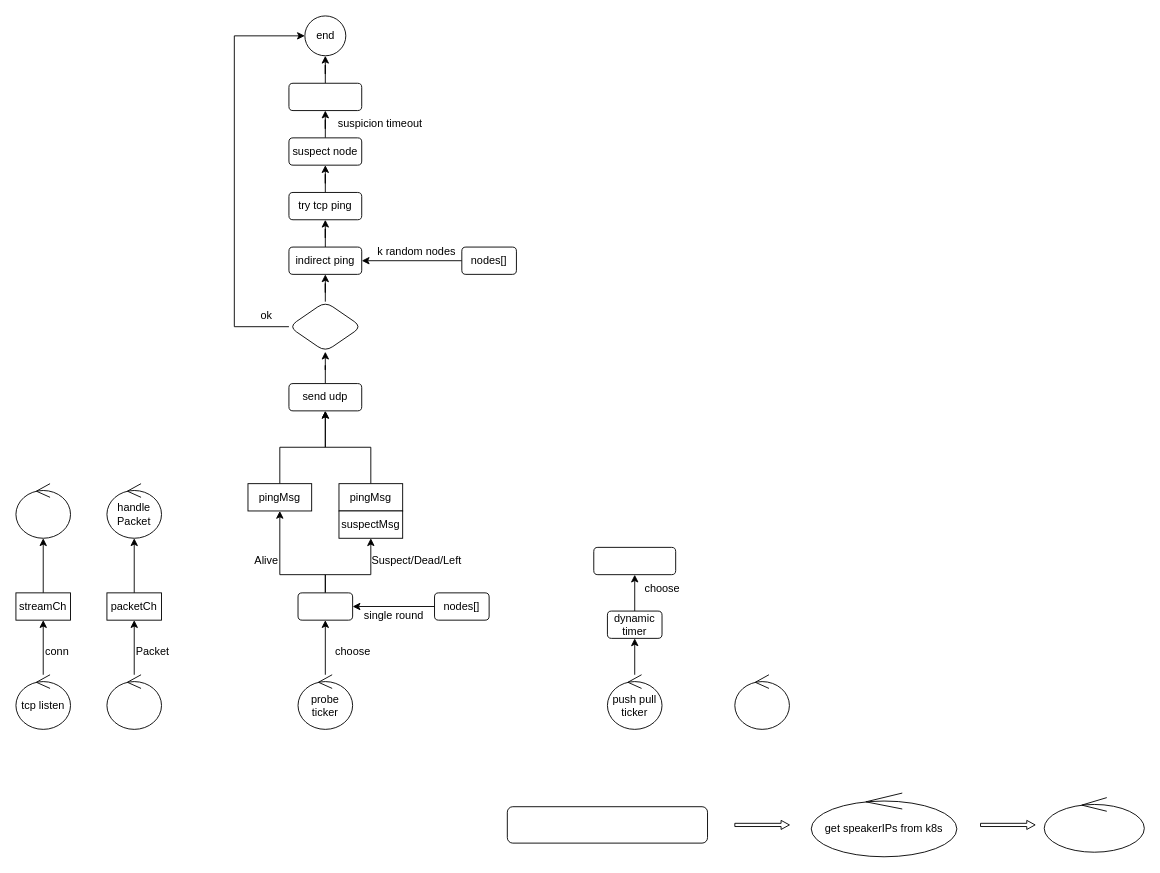
Image size: 1160x873. Some labels were removed from this diagram. The shapes that lost their labels are listed below. From the top down, each one's centre as x and y in pixels, then its label:
At [325,96]: "dead node".
At [325,326]: "wait for response".
At [43,510]: "handle Conn".
At [634,560]: "1 random nodes".
At [325,606]: "node".
At [134,701]: "udp listen".
At [761,701]: "gossip ticker".
At [607,824]: "ml, err := memberlist.Create(mconfig)".
At [1093,824]: "Join(speakerIPs)".
